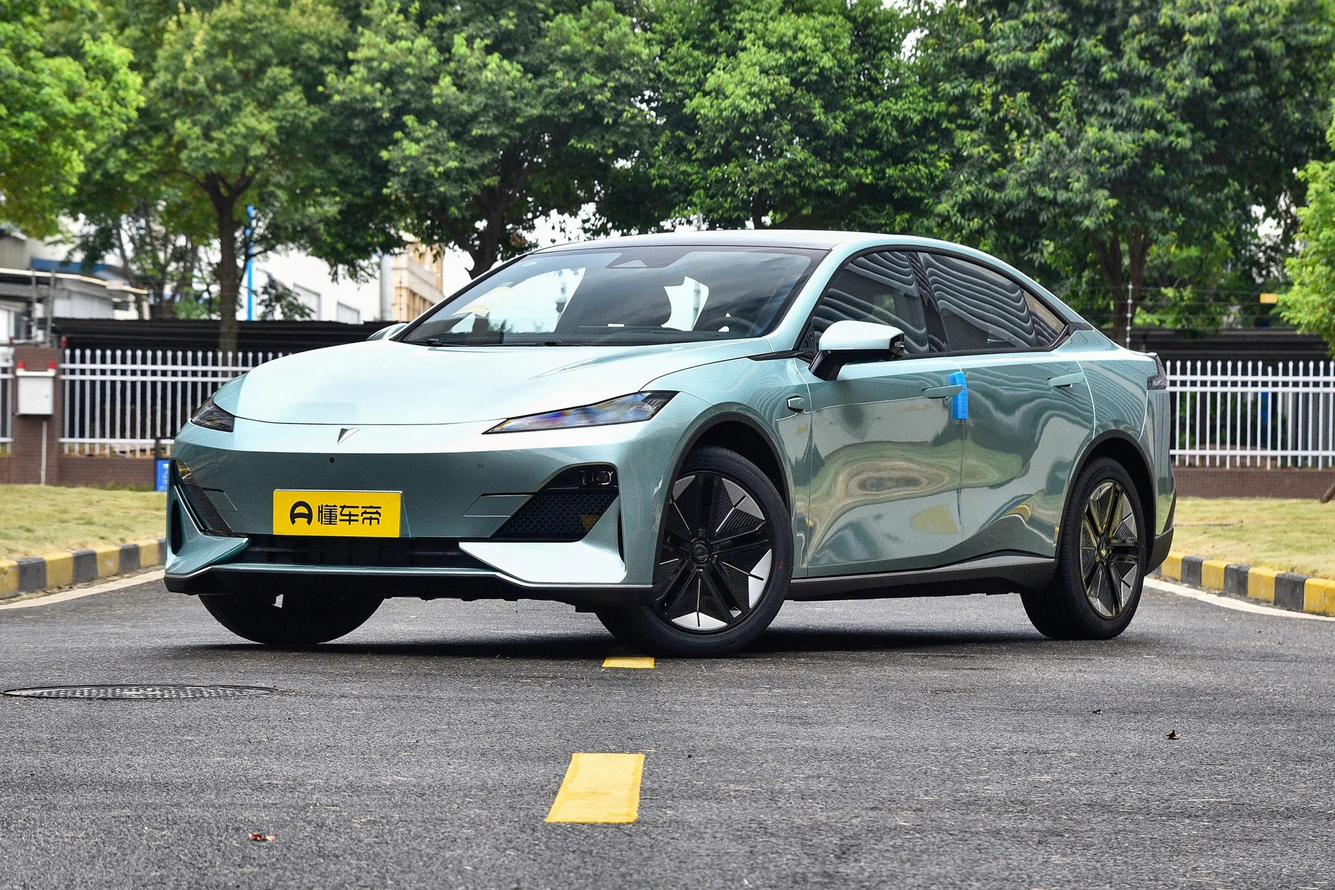Deepal: (337, 427, 360, 444)
